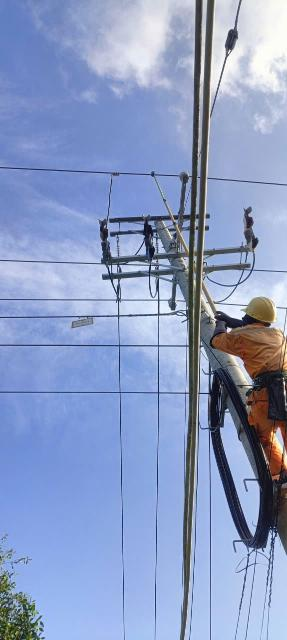gloves: (215, 309, 247, 328), (211, 318, 238, 340)
harness: (249, 371, 287, 383)
helmet: (241, 298, 282, 326)
